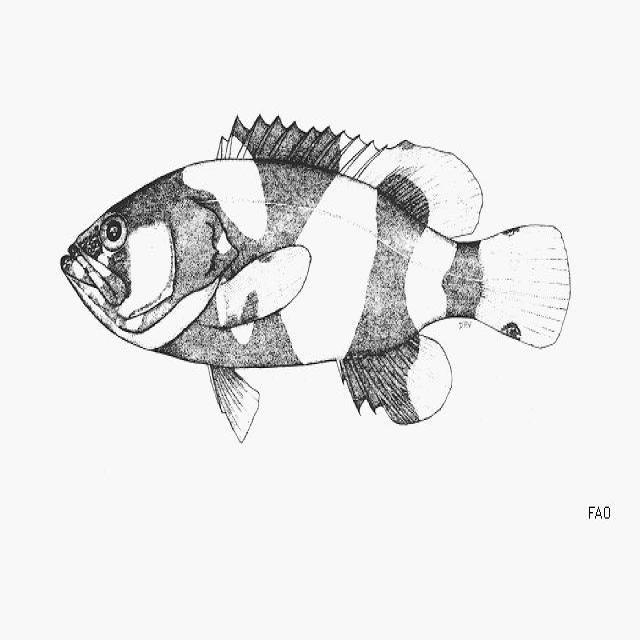ikan: (59, 110, 571, 442)
